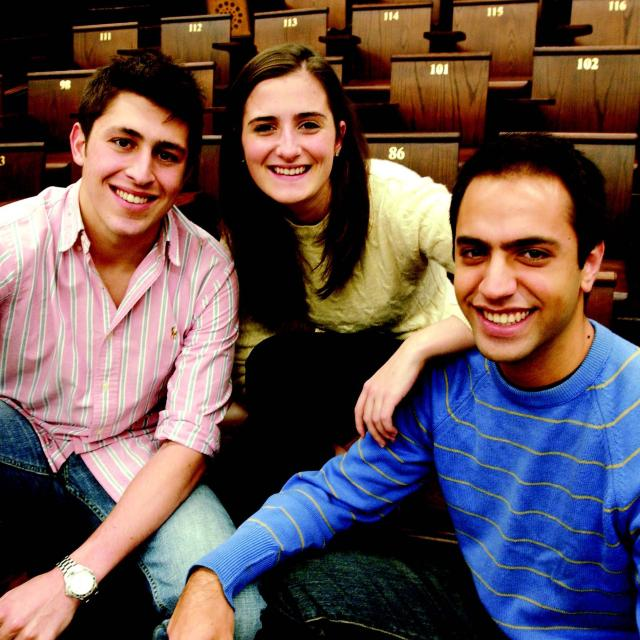body: (165, 130, 639, 640), (0, 46, 269, 640), (201, 39, 477, 527)
